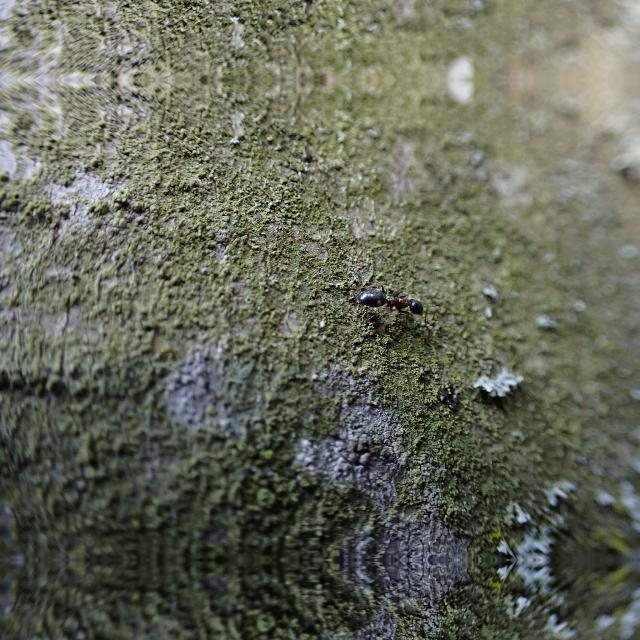Dolichoderus: (340, 272, 438, 324)
